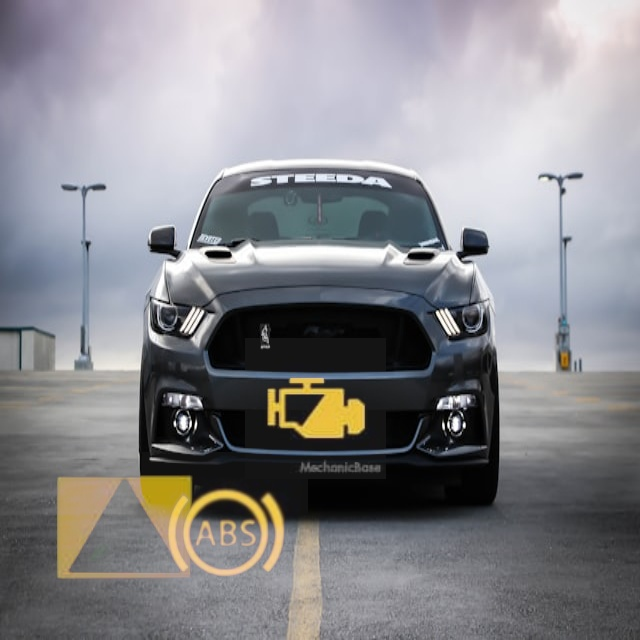symbol: (33, 437, 216, 620), (142, 452, 308, 618), (245, 338, 386, 479)
